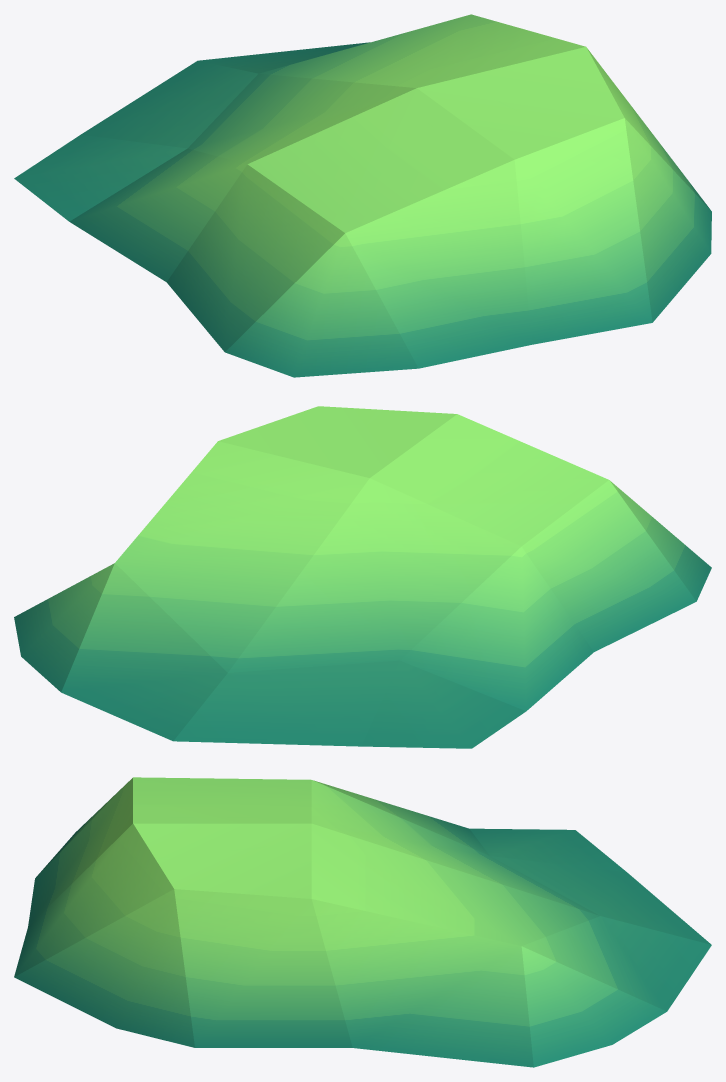
File: terrain_6.fbx
The picture shows the model from 3 angles, top to bottom: view 1: azimuth 30°, elevation 25°; view 2: azimuth 150°, elevation 25°; view 3: azimuth 270°, elevation 25°; orthographic projection. The views are drawn at different scales.
Parts seen in each view (by area): view 1: pPlane41; view 2: pPlane41; view 3: pPlane41.
Boxes of the visible parts, bbox=[...] form: pPlane41: bbox=[14, 14, 711, 377]; pPlane41: bbox=[14, 406, 711, 748]; pPlane41: bbox=[14, 777, 711, 1067].
Size of the model in its own units: 409 by 93.87 by 489.
